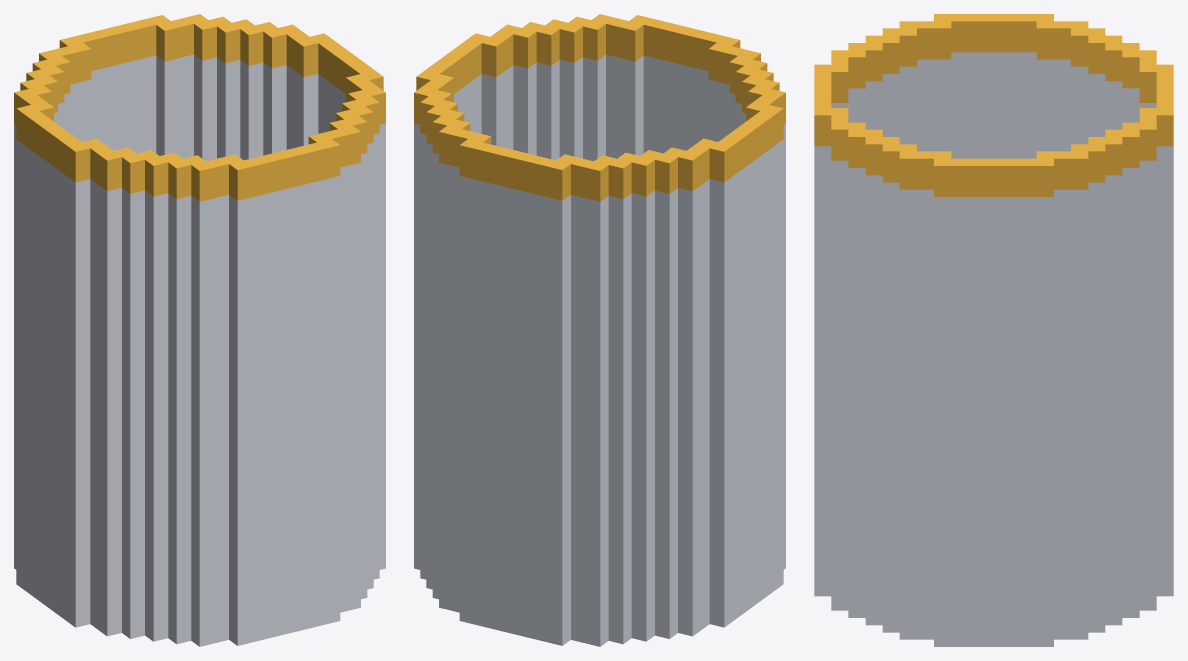
Rendered from Lake_IV_second_stage.obj.
The picture shows the model from 3 angles, left to right: view 1: azimuth 30°, elevation 25°; view 2: azimuth 150°, elevation 25°; view 3: azimuth 270°, elevation 25°; orthographic projection.
Size of the model in its own units: 2.1 by 3.1 by 2.1.
Materials: 1 (1 with a texture image).
